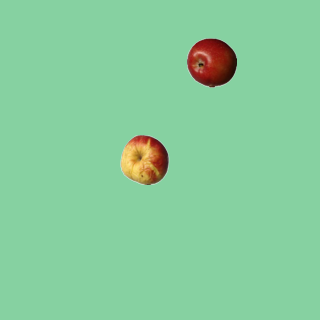Apple Braeburn: (186, 37, 236, 87)
Apple Red Yellow 1: (119, 134, 169, 184)
